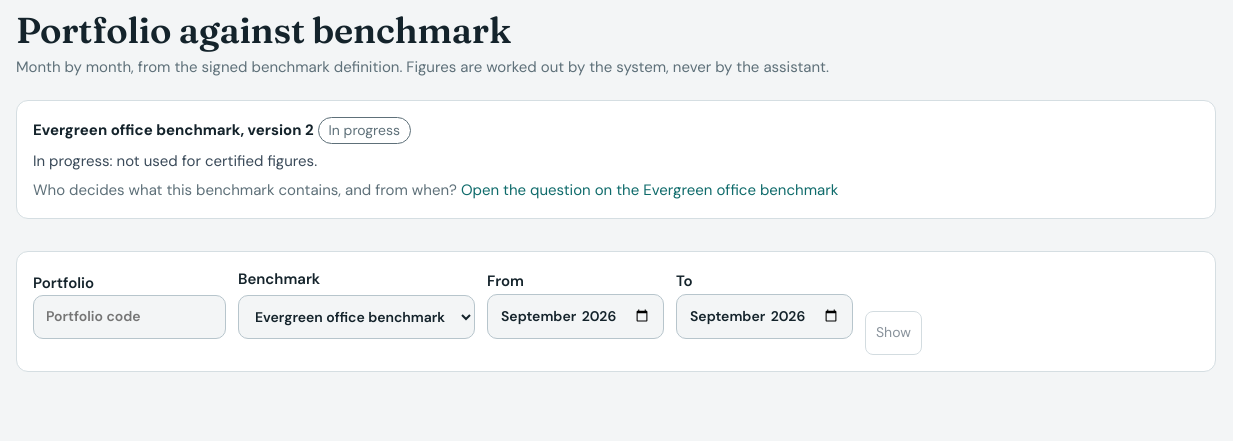
Test: asks for a portfolio before showing anything, and speaks plainly when the server refuses
Expected: the button "Show" is disabled, [865,311,922,355]
In the field with placeholder "Portfolio code": x=130, y=317 [33,295,226,339], type "NOPE"
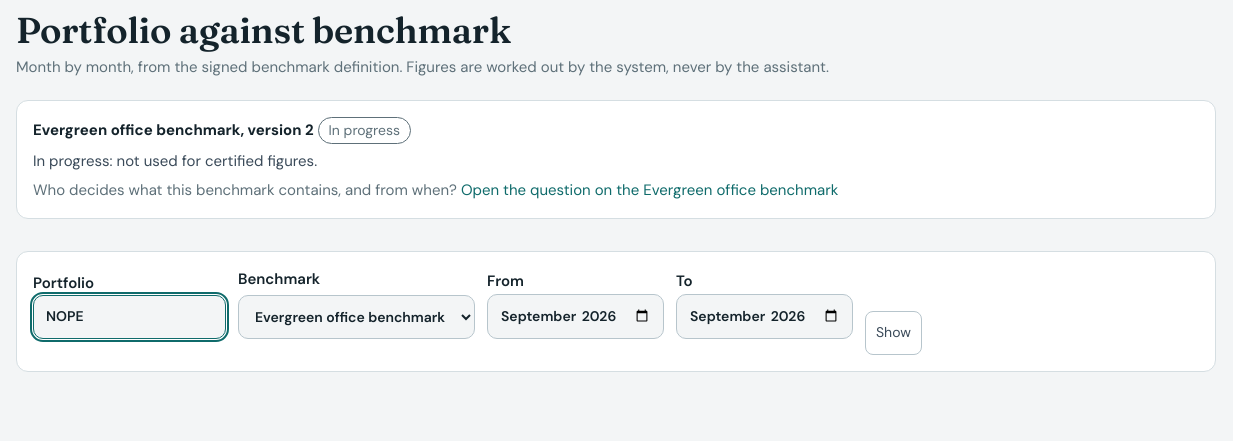
Click the button "Show": x=893, y=333 [865,311,922,355]
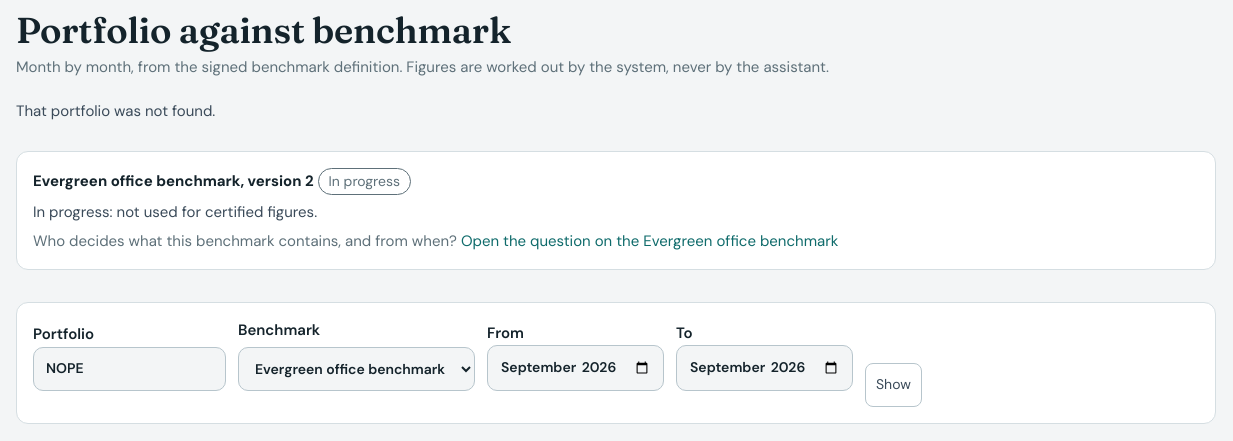
Expected: the message reads "That portfolio was not found.", [16,101,215,121]
